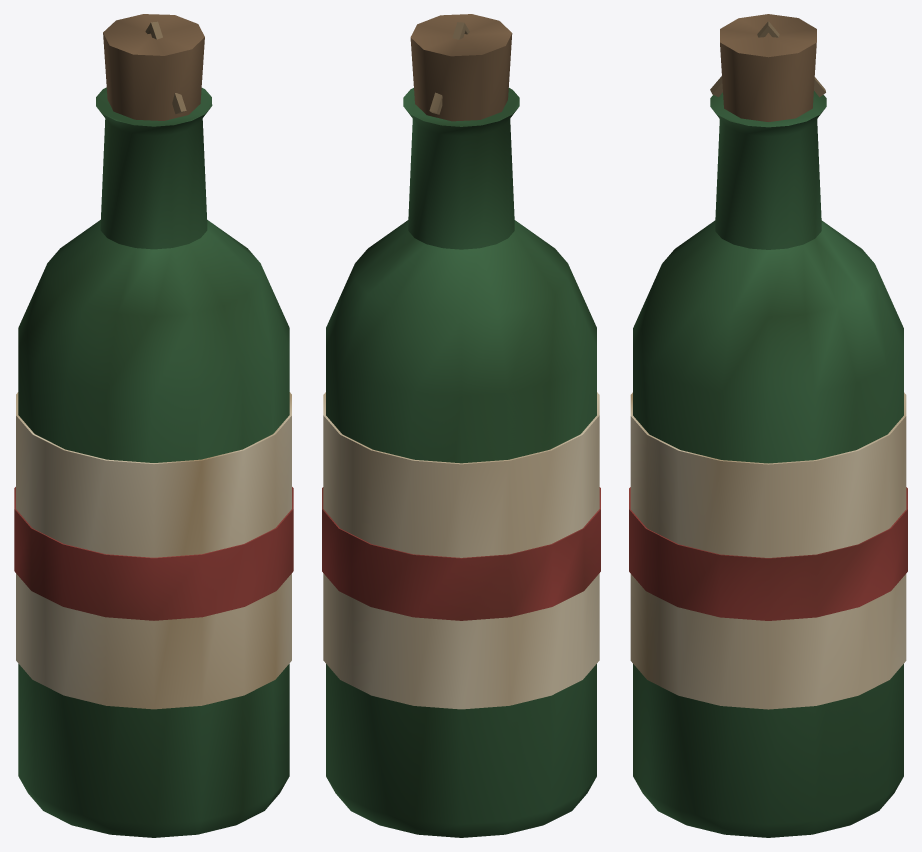
File: kola-tonic.glb
3 renders of one model, left to right at view 1: azimuth 30°, elevation 25°; view 2: azimuth 150°, elevation 25°; view 3: azimuth 270°, elevation 25°, orthographic.
Parts seen in each view (by area): view 1: kola-tonic; view 2: kola-tonic; view 3: kola-tonic.
Part boxes in pixels (x1,y1,x2,y2): kola-tonic: [14, 14, 293, 837]; kola-tonic: [322, 14, 600, 837]; kola-tonic: [629, 14, 907, 837].
Bounding box in the file's own units: 0.0576 × 0.171 × 0.0567.
